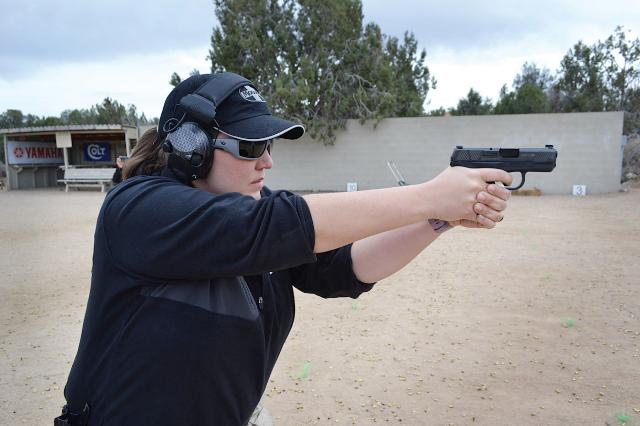handgun: (448, 140, 562, 202)
